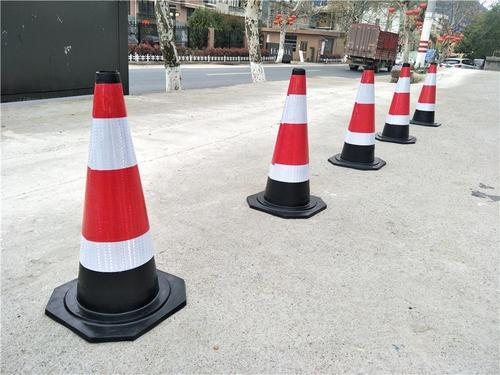cone_barrel: (60, 73, 170, 324), (251, 68, 319, 215), (330, 66, 379, 168), (378, 60, 415, 143), (411, 58, 440, 125)
